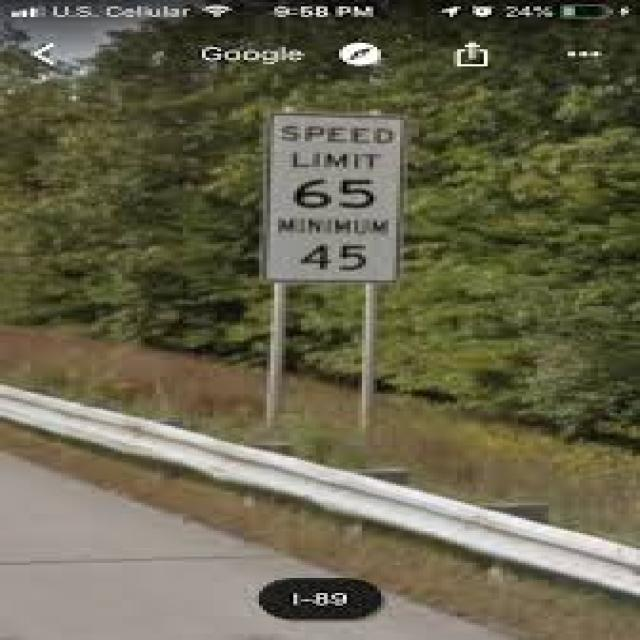speedLimit65: (264, 110, 400, 284)
